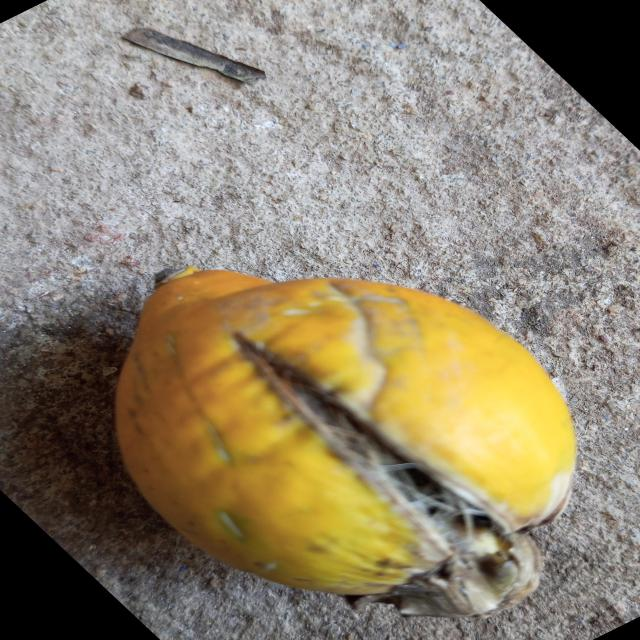damaged: (114, 268, 577, 619)
